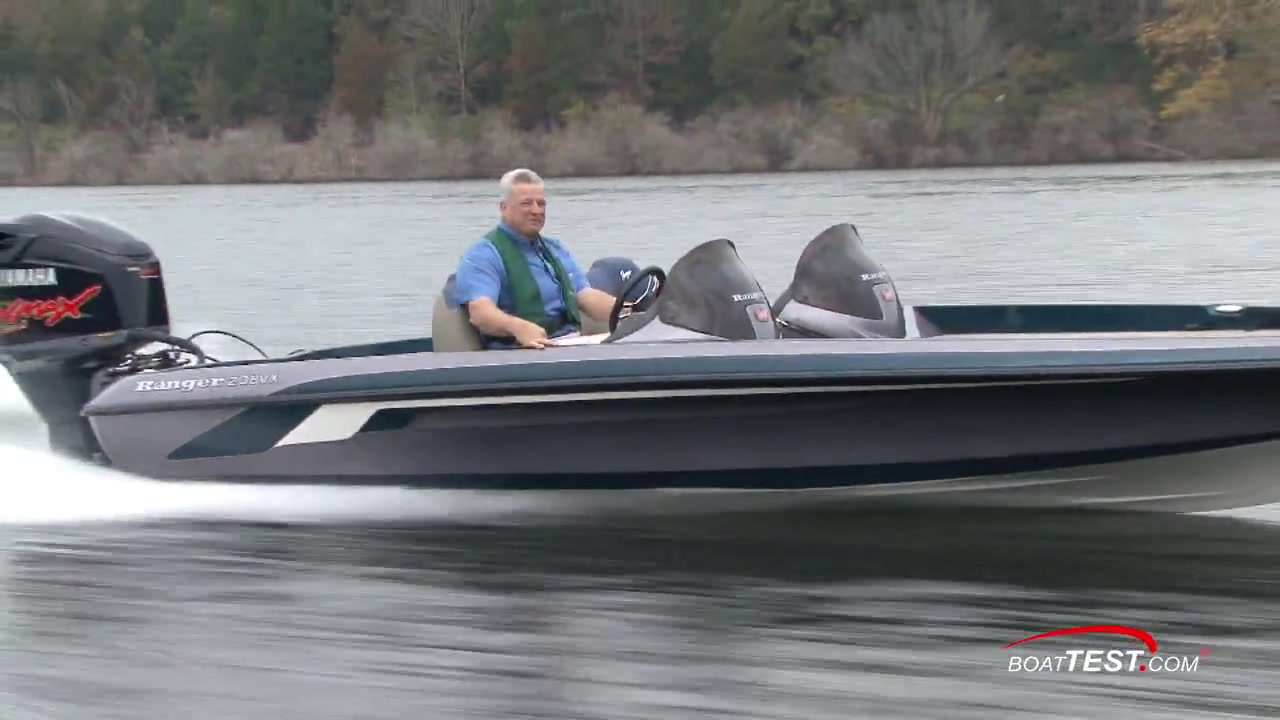boat: (1, 214, 1280, 509)
